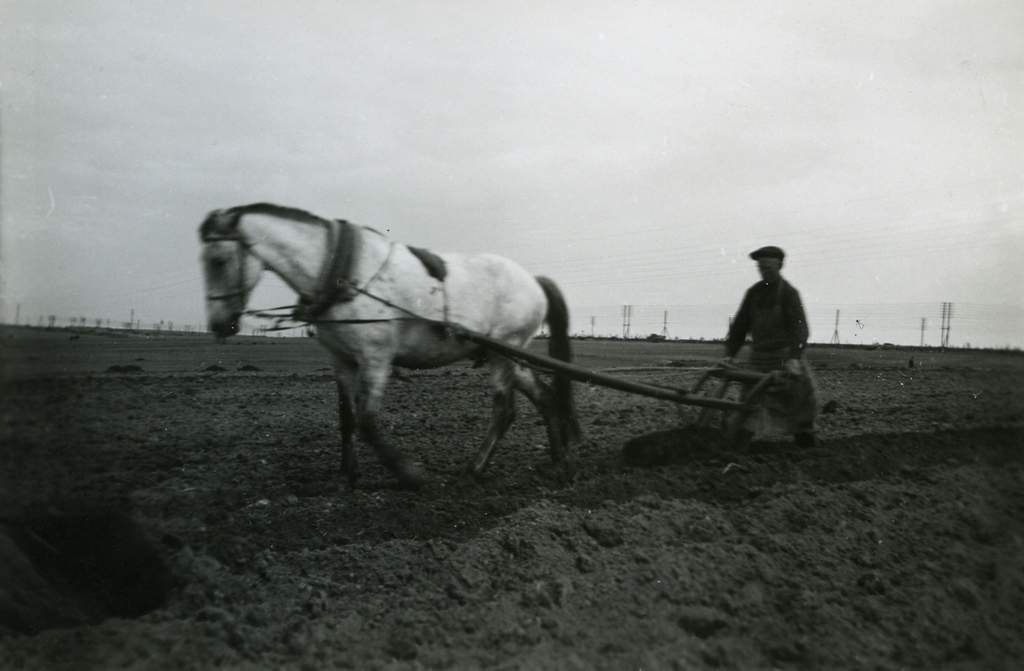horse: (195, 201, 576, 492)
